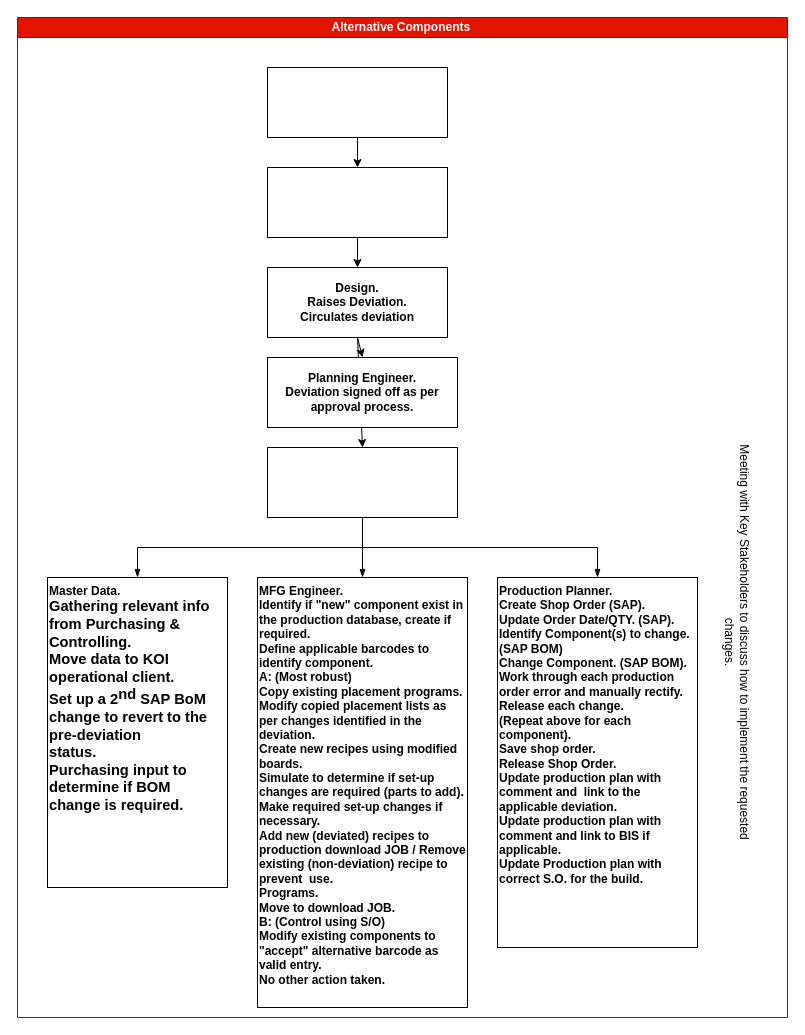
Image size: 805x1035. Some labels were removed from this diagram. Each missing label, with the centre of its shape:
"Design. Identifies required changes. Raises request to APP" belongs at (x=357, y=202).
"Planning Engineer. Circulates deviation (*AFTER* approval)" belongs at (x=362, y=482).
"TASK FORCE Identifies Shortages and Communicates with Design." belongs at (x=357, y=102).
